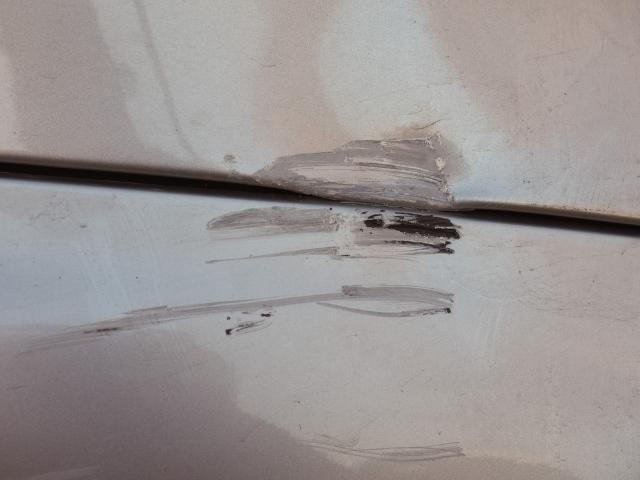scratch: (20, 204, 468, 469), (228, 129, 462, 213)
